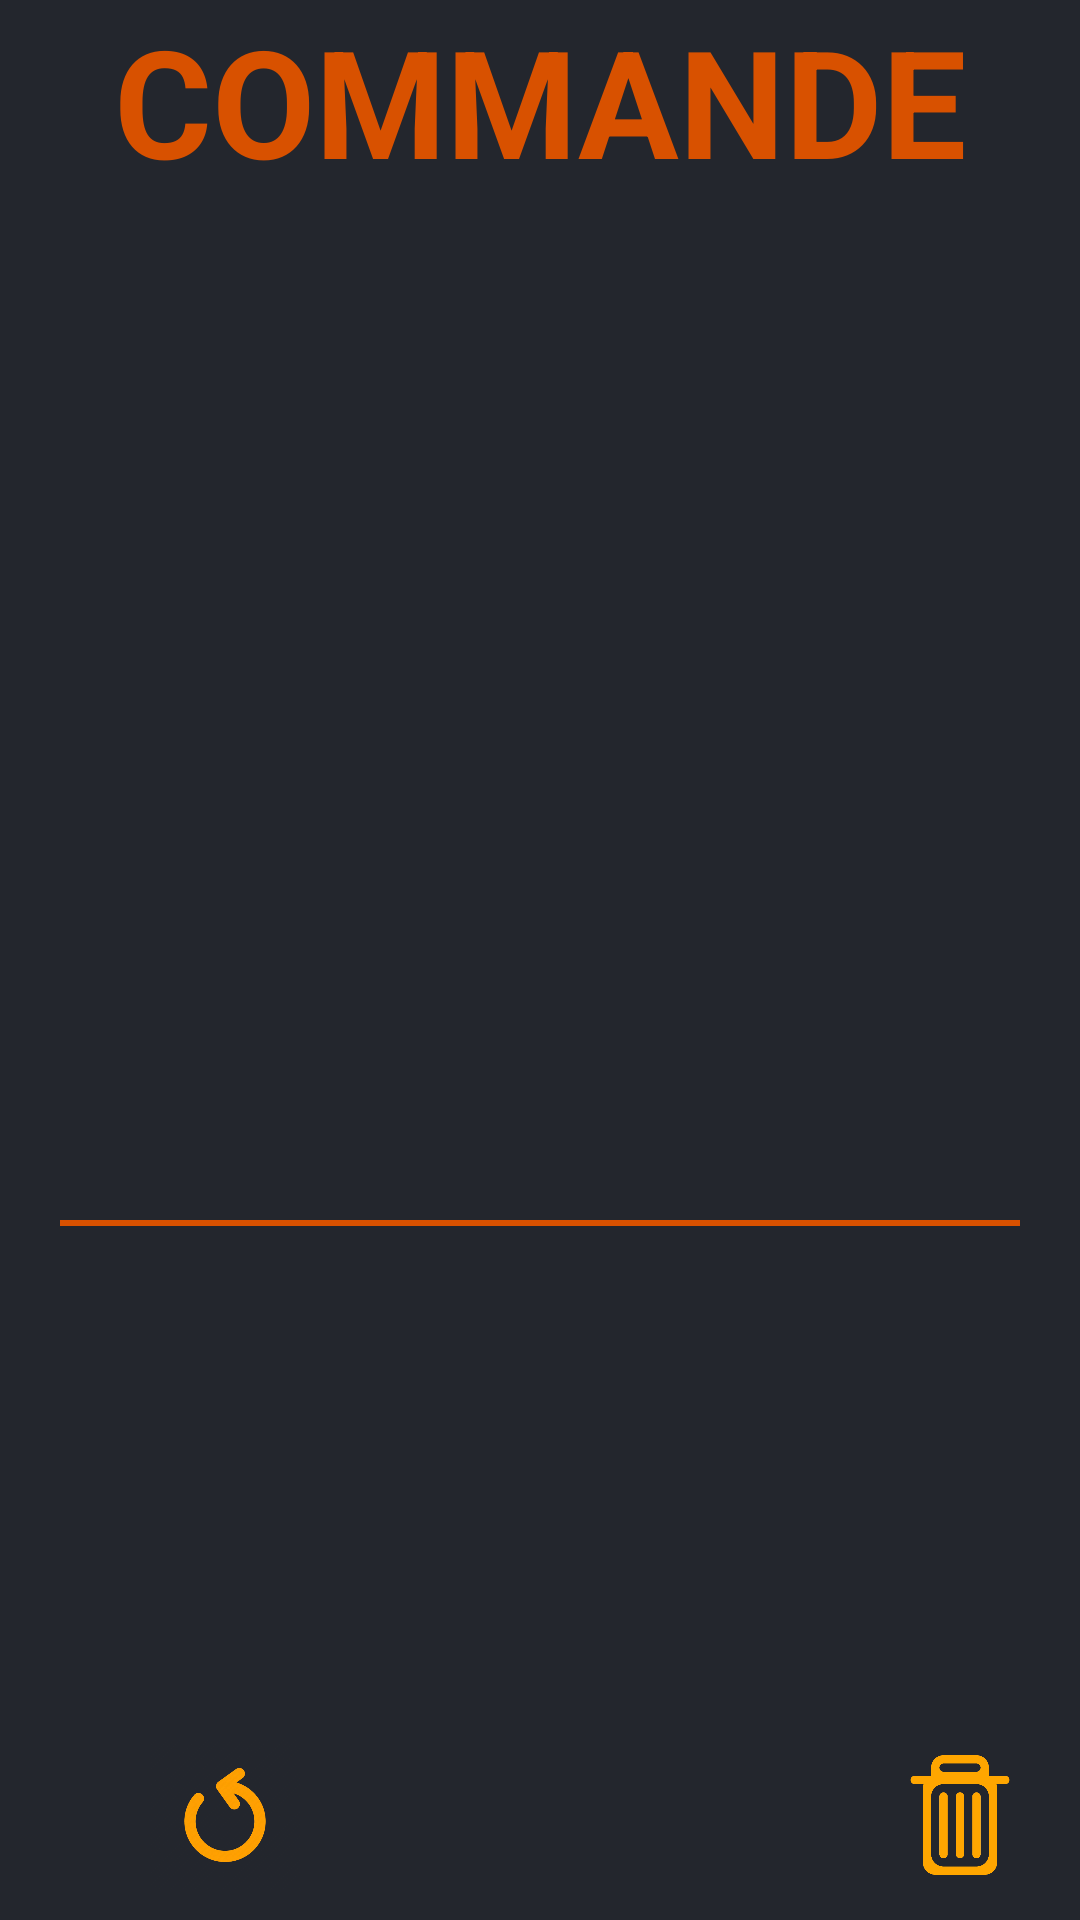

Screen size 1080px×1920px. Icon name, then its center in pixels as [x,y]:
refresh: [225,1815]
supp: [960,1815]
